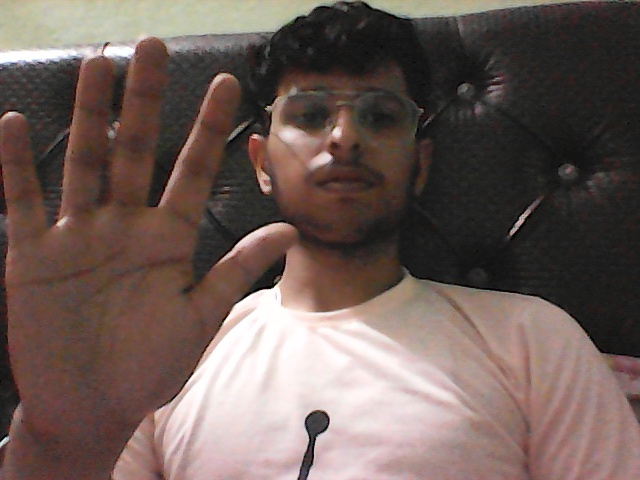hello: (1, 30, 310, 480)
